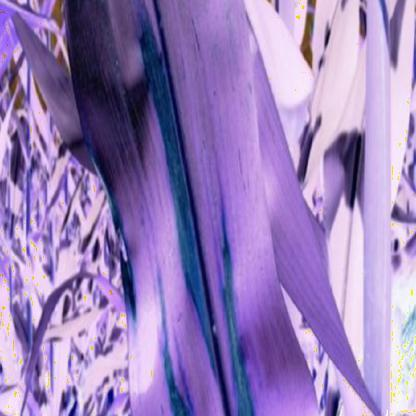Corn leaf blight: (66, 1, 300, 415)
